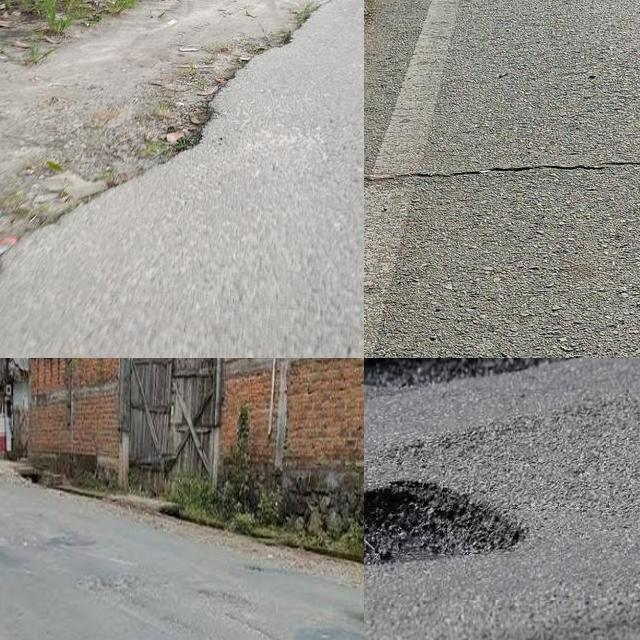Lubang: (364, 486, 528, 564)
Melintang: (364, 147, 640, 180)
Pinggir: (0, 0, 357, 336)
